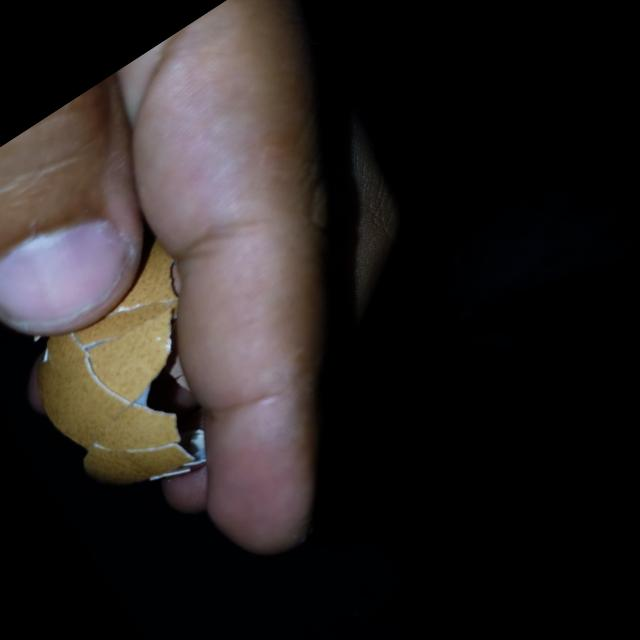organic: (0, 264, 246, 527)
